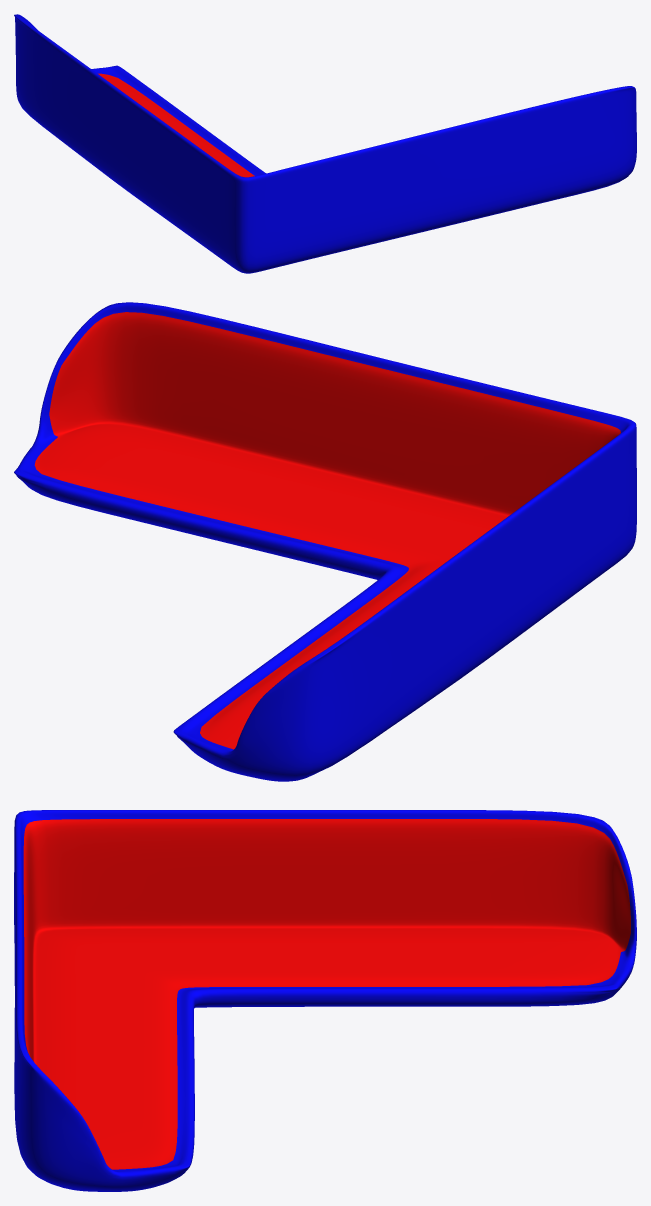
The model's file is couch-right-high.fbx.
3 renders of one model, top to bottom at view 1: azimuth 30°, elevation 25°; view 2: azimuth 150°, elevation 25°; view 3: azimuth 270°, elevation 25°, orthographic. The views are drawn at different scales.
Parts seen in each view (by area): view 1: couch 2 Highpoly; view 2: couch 2 Highpoly; view 3: couch 2 Highpoly.
Part boxes in pixels (x1,y1,x2,y2): couch 2 Highpoly: (14, 14, 636, 273); couch 2 Highpoly: (14, 302, 636, 781); couch 2 Highpoly: (14, 810, 636, 1191).
Size of the model in its own units: 330 by 84.38 by 337.
